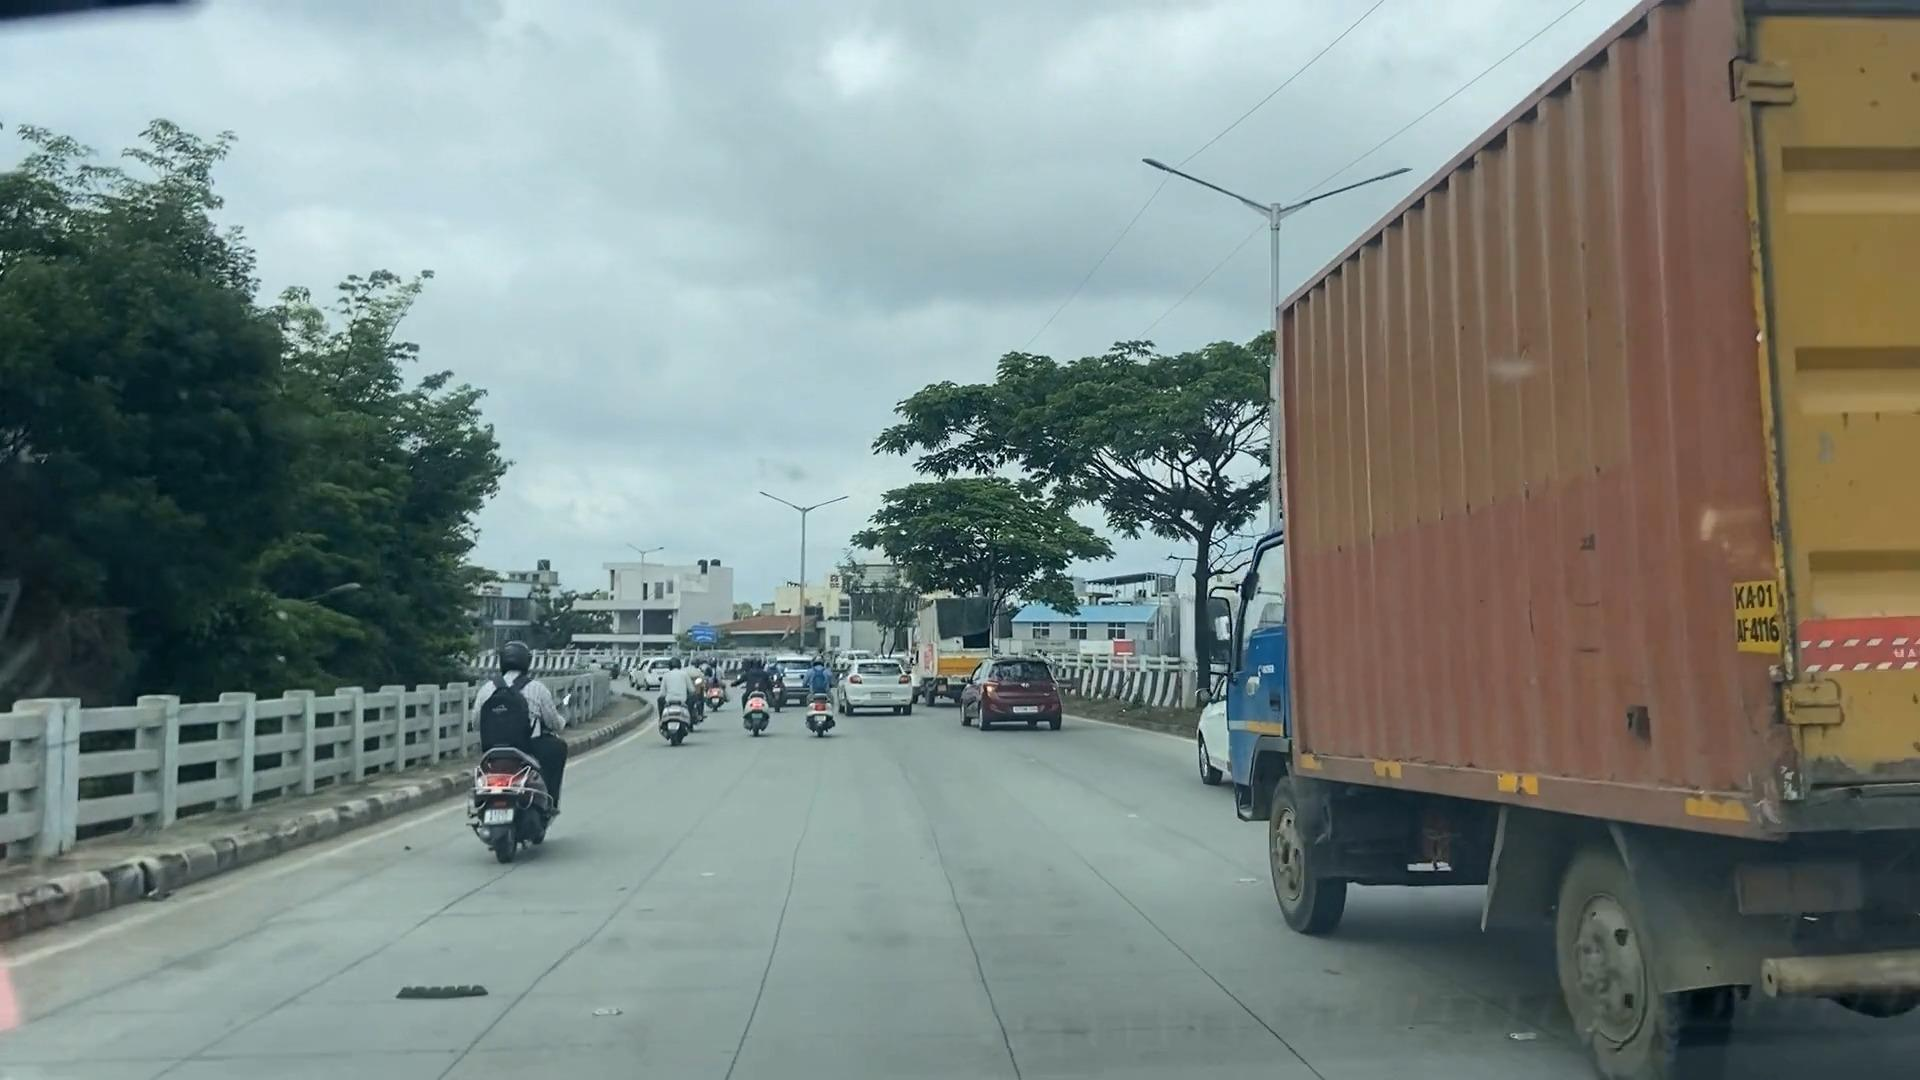LMV: (476, 632, 553, 852), (957, 650, 1047, 729), (661, 647, 707, 745), (798, 642, 843, 737), (856, 655, 910, 715), (740, 659, 777, 735)
